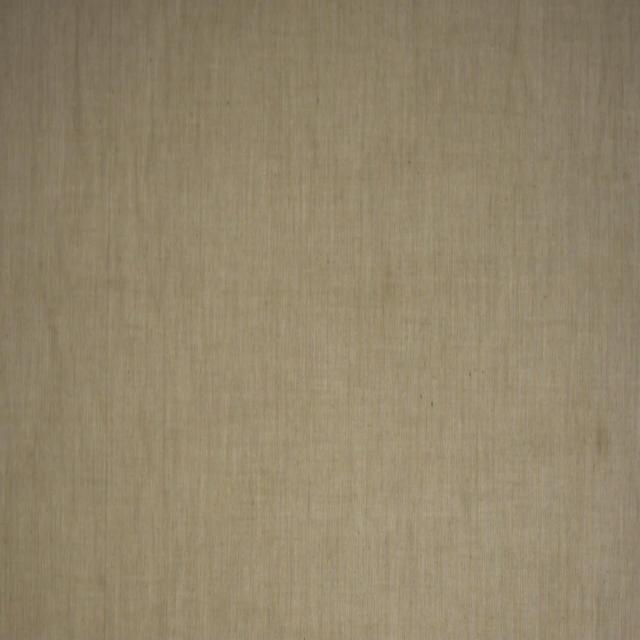dirty: (594, 422, 614, 461)
